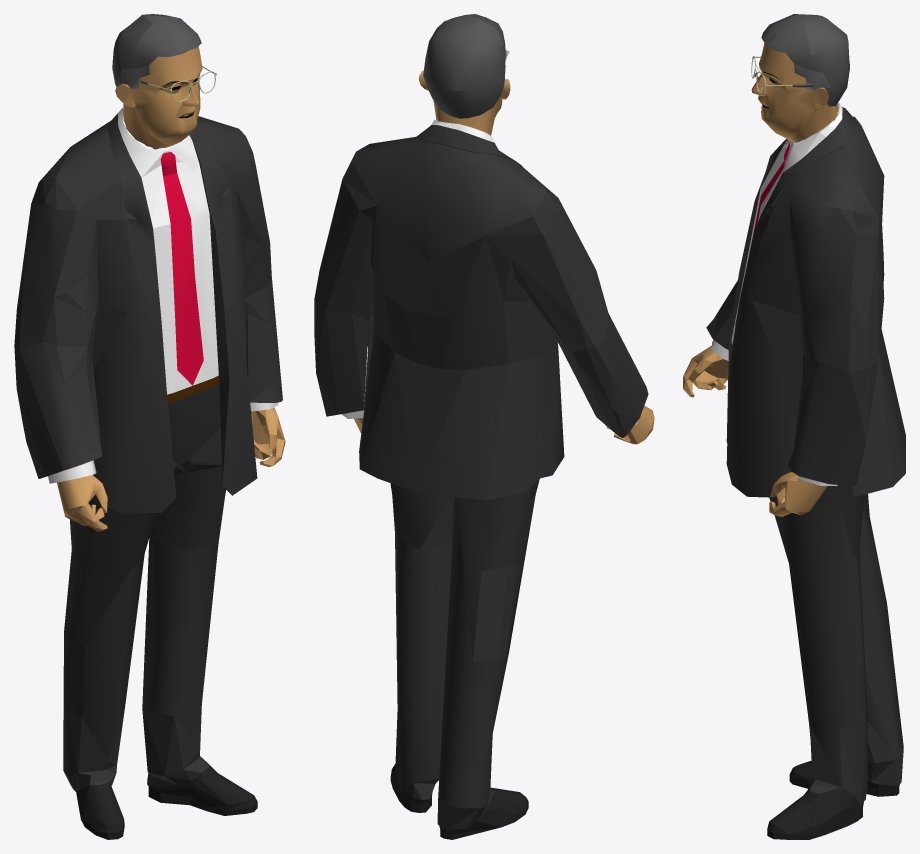
Rendered from VijayJohnsonThakur.obj.
3 renders of one model, left to right at view 1: azimuth 30°, elevation 25°; view 2: azimuth 150°, elevation 25°; view 3: azimuth 270°, elevation 25°, orthographic. The views are drawn at different scales.
Parts seen in each view (by area): view 1: Mesh13 Group1 Model, Mesh12 Group1 Model, Mesh16 Group1 Model, Mesh17 Group1 Model, Mesh15 Group1 Model; view 2: Mesh13 Group1 Model, Mesh12 Group1 Model, Mesh16 Group1 Model; view 3: Mesh13 Group1 Model, Mesh12 Group1 Model, Mesh17 Group1 Model, Mesh16 Group1 Model.
Boxes of the visible parts, box(x1,y1,x2,y2) form: Mesh13 Group1 Model: box(14, 107, 282, 839); Mesh12 Group1 Model: box(112, 14, 202, 149); Mesh16 Group1 Model: box(57, 475, 107, 531); Mesh17 Group1 Model: box(251, 407, 285, 466); Mesh15 Group1 Model: box(48, 460, 96, 483); Mesh13 Group1 Model: box(314, 119, 648, 839); Mesh12 Group1 Model: box(418, 14, 510, 135); Mesh16 Group1 Model: box(614, 405, 654, 444); Mesh13 Group1 Model: box(706, 103, 905, 839); Mesh12 Group1 Model: box(751, 14, 849, 142); Mesh17 Group1 Model: box(769, 472, 827, 516); Mesh16 Group1 Model: box(683, 345, 728, 397).
Bounding box in the file's own units: 0.6111 × 1.71 × 0.4378.
